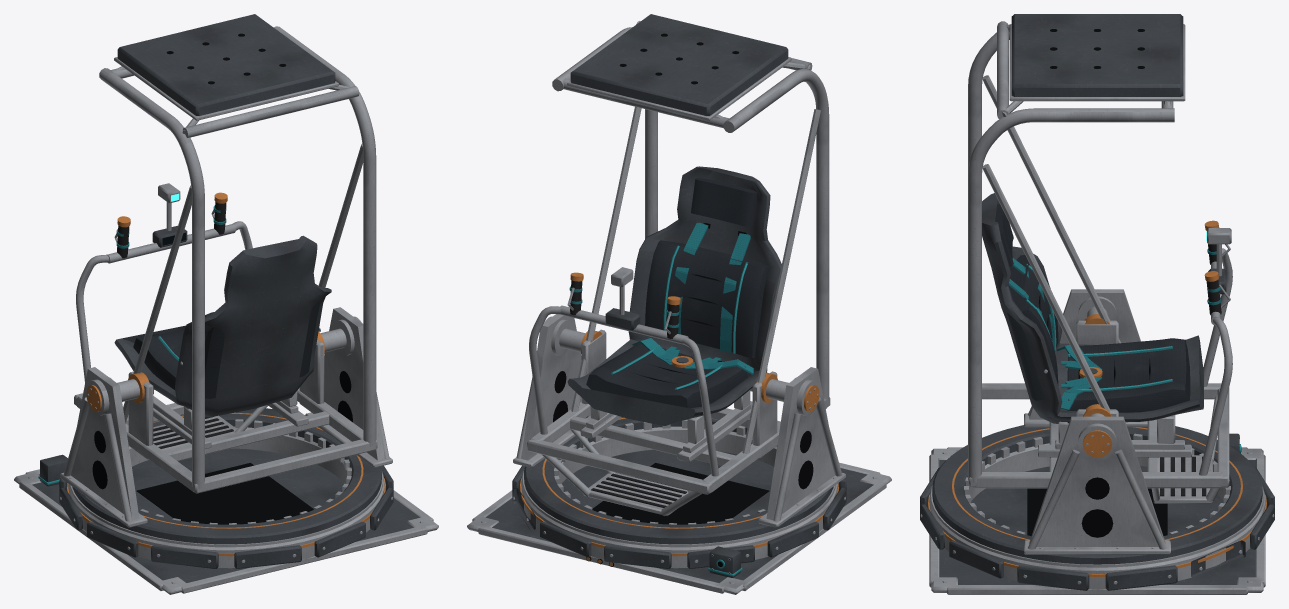
The model's file is turret_seat_3.glb.
3 renders of one model, left to right at view 1: azimuth 30°, elevation 25°; view 2: azimuth 150°, elevation 25°; view 3: azimuth 270°, elevation 25°, orthographic. The views are drawn at different scales.
Parts seen in each view (by area): view 1: Cradle, Base, YawStage, ShellFrame, Backrest, Cushion; view 2: Cradle, Base, YawStage, Backrest, ShellFrame, Cushion; view 3: Cradle, YawStage, Base, Cushion, ShellFrame, Backrest.
Boxes of the visible parts, x1,y1,x2,y2 form: Cradle: (74, 14, 377, 493); Base: (14, 426, 438, 594); YawStage: (60, 307, 392, 547); ShellFrame: (114, 235, 331, 430); Backrest: (205, 301, 320, 398); Cushion: (133, 329, 188, 408); Cradle: (527, 14, 830, 515); Base: (467, 426, 891, 594); YawStage: (513, 314, 845, 547); Backrest: (645, 178, 770, 357); ShellFrame: (567, 166, 781, 443); Cushion: (586, 338, 753, 408); Cradle: (968, 14, 1232, 503); YawStage: (931, 289, 1263, 567); Base: (920, 433, 1274, 594); Cushion: (1056, 338, 1190, 423); ShellFrame: (982, 193, 1203, 443); Backrest: (995, 204, 1058, 400).
Bounding box in the file's own units: 1.01 × 1.5 × 1.01.
11 materials, 7 textured.
